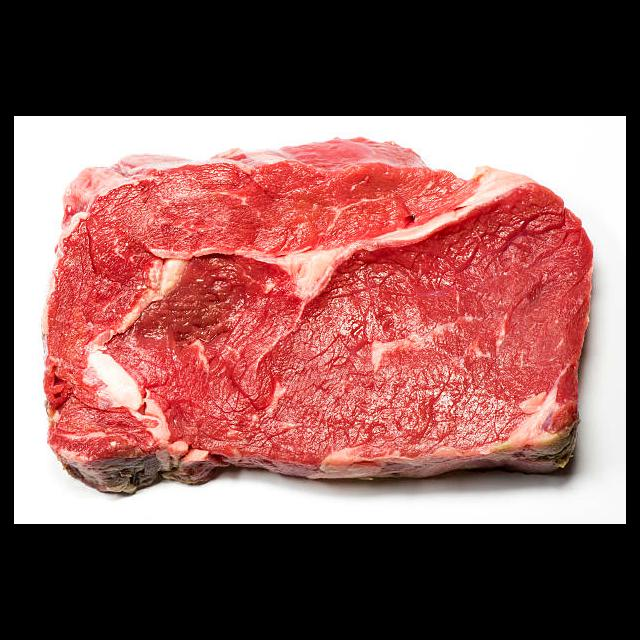beef: (41, 135, 595, 496)
